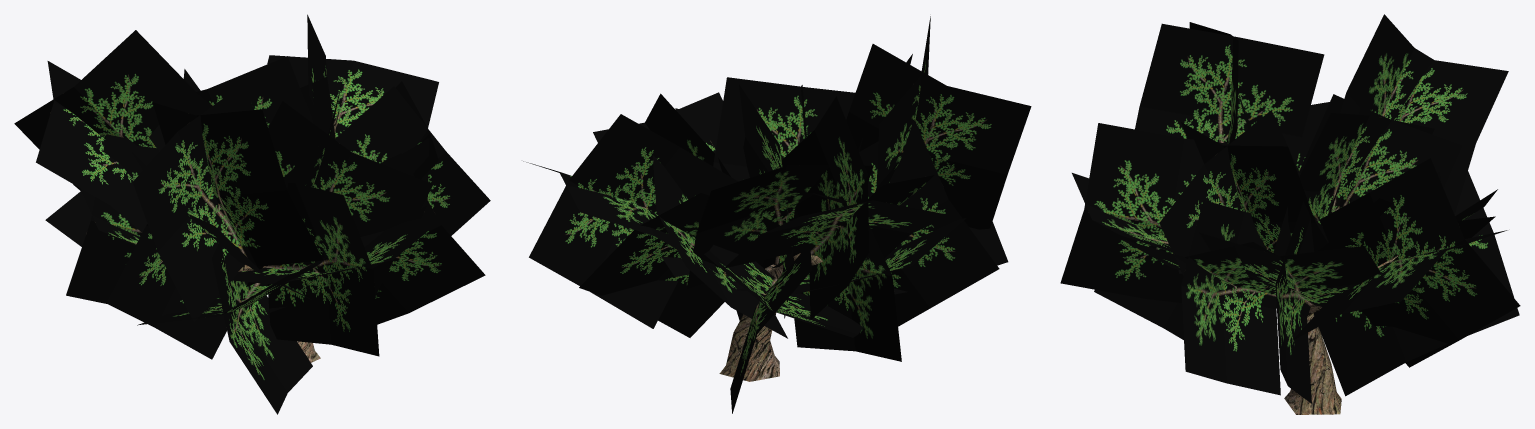
The model's file is christian_nietsche_tree.obj.
The picture shows the model from 3 angles, left to right: view 1: azimuth 30°, elevation 25°; view 2: azimuth 150°, elevation 25°; view 3: azimuth 270°, elevation 25°; orthographic projection.
Parts seen in each view (by area): view 1: Circle; view 2: Circle; view 3: Circle.
Part boxes in pixels (x1,y1,x2,y2): Circle: (14,14,490,414); Circle: (523,16,1031,413); Circle: (1060,14,1520,414).
Bounding box in the file's own units: 16.84 × 12.68 × 15.93.
2 materials, 2 textured.
